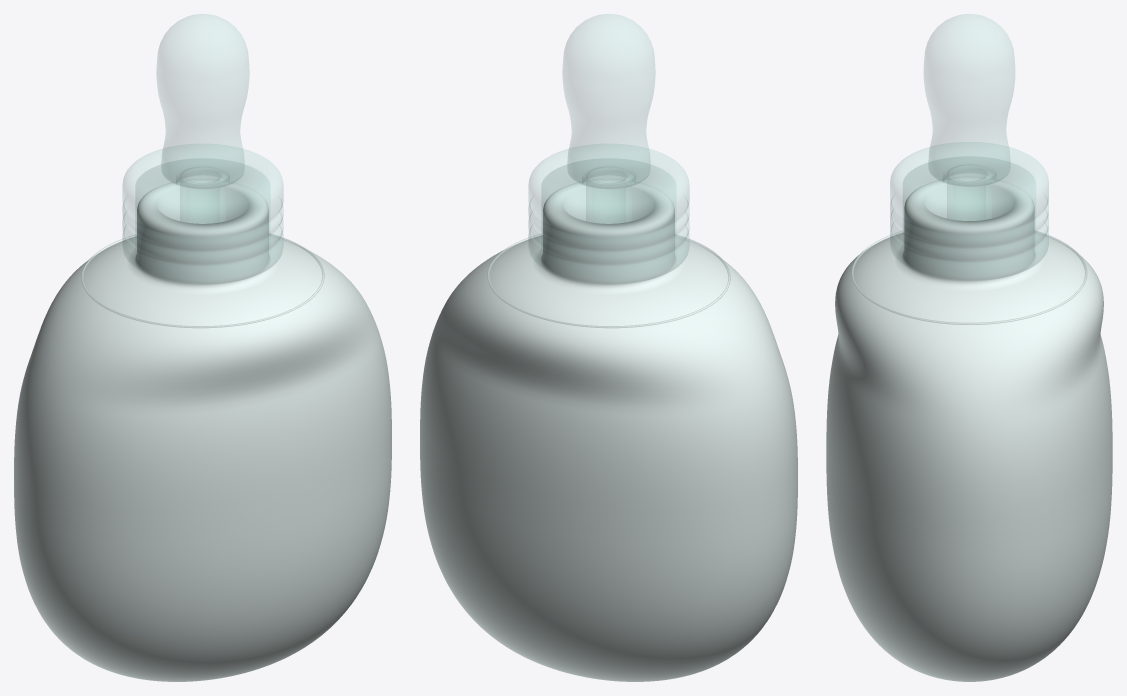
Rendered from dewlab-serum.glb.
The picture shows the model from 3 angles, left to right: view 1: azimuth 30°, elevation 25°; view 2: azimuth 150°, elevation 25°; view 3: azimuth 270°, elevation 25°; orthographic projection.
Parts seen in each view (by area): view 1: Serum.Bottle, Serum.Collar, Serum.Bulb, Serum.Tube, Serum.Etch; view 2: Serum.Bottle, Serum.Collar, Serum.Bulb, Serum.Tube, Serum.Etch; view 3: Serum.Bottle, Serum.Collar, Serum.Bulb, Serum.Tube, Serum.Etch.
Boxes of the visible parts, bbox=[...] form: Serum.Bottle: bbox=[14, 179, 391, 681]; Serum.Collar: bbox=[122, 144, 283, 284]; Serum.Bulb: bbox=[156, 14, 249, 188]; Serum.Tube: bbox=[180, 167, 225, 223]; Serum.Etch: bbox=[81, 233, 324, 327]; Serum.Bottle: bbox=[420, 179, 797, 681]; Serum.Collar: bbox=[528, 144, 689, 284]; Serum.Bulb: bbox=[562, 14, 655, 188]; Serum.Tube: bbox=[586, 167, 631, 223]; Serum.Etch: bbox=[487, 233, 730, 327]; Serum.Bottle: bbox=[826, 176, 1112, 681]; Serum.Collar: bbox=[890, 142, 1048, 280]; Serum.Bulb: bbox=[924, 14, 1014, 186]; Serum.Tube: bbox=[947, 165, 991, 220]; Serum.Etch: bbox=[851, 230, 1087, 324].
Size of the model in its own units: 0.058 by 0.1019 by 0.0418.
